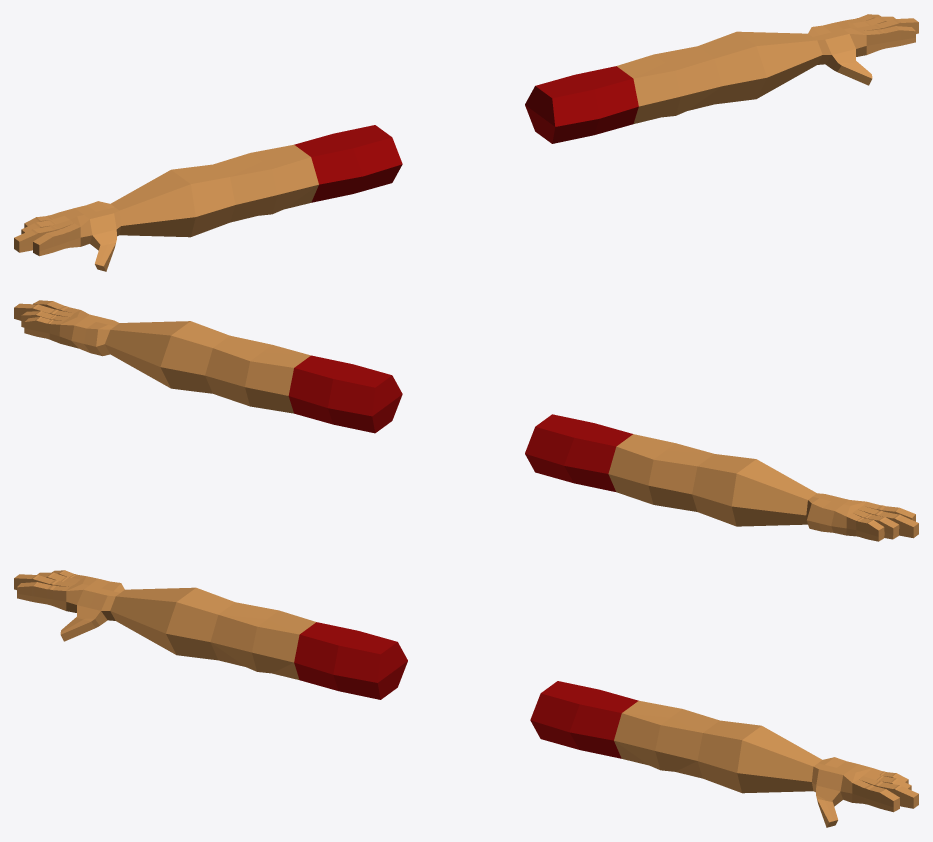
Rendered from PlayerViewModel.fbx.
3 renders of one model, top to bottom at view 1: azimuth 30°, elevation 25°; view 2: azimuth 150°, elevation 25°; view 3: azimuth 330°, elevation 25°, orthographic.
Parts seen in each view (by area): view 1: PlayerViewModel; view 2: PlayerViewModel; view 3: PlayerViewModel.
Boxes of the visible parts, x1,y1,x2,y2 form: PlayerViewModel: (14,14,918,271); PlayerViewModel: (14,300,918,541); PlayerViewModel: (14,570,918,827).
Bounding box in the file's own units: 40.32 × 2.29 × 3.28.
1 material, 1 textured.
